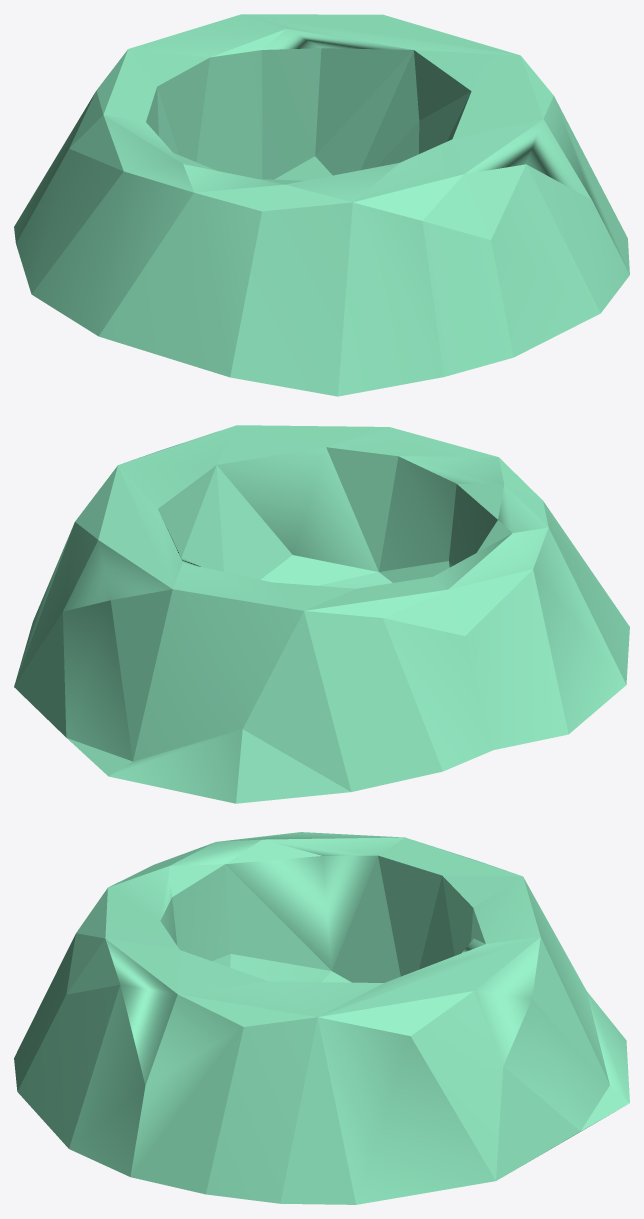
File: crater_2.fbx
The picture shows the model from 3 angles, top to bottom: view 1: azimuth 30°, elevation 25°; view 2: azimuth 150°, elevation 25°; view 3: azimuth 270°, elevation 25°; orthographic projection.
Parts seen in each view (by area): view 1: PM3D_Cube3D1; view 2: PM3D_Cube3D1; view 3: PM3D_Cube3D1.
Part boxes in pixels (<box>): PM3D_Cube3D1: <box>14,14,629,396</box>; PM3D_Cube3D1: <box>14,425,629,803</box>; PM3D_Cube3D1: <box>14,832,629,1204</box>.
Size of the model in its own units: 1.82 by 0.5326 by 1.83.
